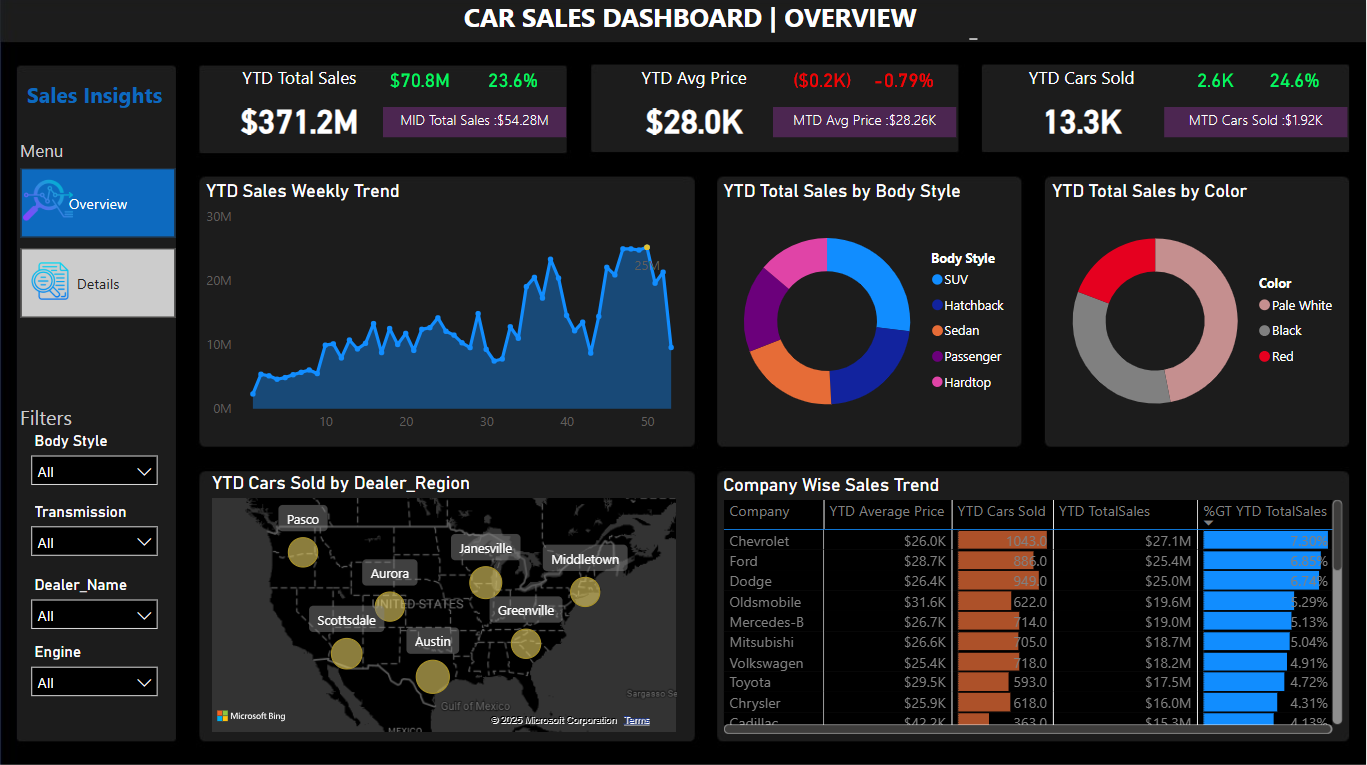

The dashboard page shown, as its layout file describes it:
{"tool":"powerbi","page":{"name":"Overview","canvas":[1280,720],"ordinal":0},"visuals":[{"type":"card","title":"YTD Total Sales","fields":{"Values":["car_data.YTD TotalSales"]},"box":[188.3,61.7,185,80],"z":0},{"type":"card","title":"YTD Total Sales","fields":{"Values":["car_data.Sales Difference"]},"box":[345,61.7,98.3,26.7],"z":1000},{"type":"card","title":"YTD Total Sales","fields":{"Values":["car_data.YOY Sales Growth"]},"box":[431.7,61.7,100,26.7],"z":2000},{"type":"card","fields":{"Values":["car_data.MID KPI"]},"box":[360,101.7,171.7,28.3],"z":3000},{"type":"card","title":"YTD Avg Price","fields":{"Values":["car_data.YTD Average Price"]},"box":[558.3,61.7,185,80],"z":4000},{"type":"card","title":"YTD Total Sales","fields":{"Values":["car_data.Average Difference between YTD and PTYD"]},"box":[721.7,61.7,98.3,26.7],"z":5000},{"type":"card","title":"YTD Total Sales","fields":{"Values":["car_data.YOY Average Price Growth"]},"box":[796.7,61.7,100,26.7],"z":6000},{"type":"card","fields":{"Values":["car_data.MID Avg Price KPI"]},"box":[725,101.7,171.7,28.3],"z":7000},{"type":"card","title":"YTD Cars Sold","fields":{"Values":["car_data.YTD Cars Sold"]},"box":[921.7,61.7,185,80],"z":8000},{"type":"card","title":"YTD Total Sales","fields":{"Values":["car_data.Difference between YTD Cars Sold and PTYD Cars Sold"]},"box":[1090,61.7,98.3,26.7],"z":9000},{"type":"card","title":"YTD Total Sales","fields":{"Values":["car_data.YOY Growth Cars Sold"]},"box":[1165,61.7,98.3,26.7],"z":10000},{"type":"card","fields":{"Values":["car_data.MID Cars Sold"]},"box":[1091.7,101.7,171.7,28.3],"z":11000},{"type":"areaChart","title":"  YTD Sales Weekly Trend","fields":{"Category":["Calendar.WeekNum"],"Y":["Sum(car_data.Price ($))","car_data.Max Point"]},"box":[188.3,170,463.3,245],"z":12000},{"type":"donutChart","title":"YTD Total Sales by Body Style","fields":{"Y":["car_data.YTD TotalSales"],"Category":["car_data.Body Style"]},"box":[673.3,170,281.7,245],"z":13000},{"type":"donutChart","title":"YTD Total Sales by Color","fields":{"Y":["car_data.YTD TotalSales"],"Category":["car_data.Color"]},"box":[981.7,170,281.7,245],"z":14000},{"type":"map","fields":{"Size":["car_data.YTD Cars Sold"],"Category":["car_data.Dealer_Region"]},"box":[195,443.3,445,248.3],"z":15000},{"type":"tableEx","title":"Company Wise Sales Trend","fields":{"Values":["car_data.Company","car_data.YTD Average Price","car_data.YTD Cars Sold","car_data.YTD TotalSales1","car_data.YTD TotalSales"]},"box":[673.3,445,590,248.3],"z":16000},{"type":"textbox","title":"CAR SALES DASHBOARD | OVERVIEW","box":[373.3,0,548.3,43.3],"z":16001},{"type":"slicer","fields":{"Values":["car_data.Body Style"]},"box":[20,400,138.3,66.7],"z":16002},{"type":"slicer","fields":{"Values":["car_data.Engine"]},"box":[20,598.3,138.3,68.3],"z":16003},{"type":"slicer","fields":{"Values":["car_data.Transmission"]},"box":[20,466.7,138.3,68.3],"z":16004},{"type":"slicer","fields":{"Values":["car_data.Dealer_Name"]},"box":[20,535,138.3,68.3],"z":16005},{"type":"textbox","title":"Filters","box":[15,378.3,150,21.7],"z":16006},{"type":"textbox","title":"Sales Insights","box":[15,75,150,41.7],"z":16007},{"type":"textbox","title":"Menu","box":[15,130,150,28.3],"z":16008},{"type":"pageNavigator","box":[20,158.3,145,141.7],"z":16009},{"type":"image","box":[20,241.7,55,45],"z":16010},{"type":"image","box":[16.7,158.3,58.3,60],"z":16011}]}

Visuals, with their boxes in screenshot pixels (x1, y1, x2, y2), scaled from the page's 1280x720 canvas onto the 1367x765 screenshot:
"YTD Total Sales" card: x1=201, y1=66, x2=399, y2=151
"YTD Total Sales" card: x1=368, y1=66, x2=473, y2=94
"YTD Total Sales" card: x1=461, y1=66, x2=568, y2=94
card - car_data.MID KPI: x1=384, y1=108, x2=568, y2=138
"YTD Avg Price" card: x1=596, y1=66, x2=794, y2=151
"YTD Total Sales" card: x1=771, y1=66, x2=876, y2=94
"YTD Total Sales" card: x1=851, y1=66, x2=958, y2=94
card - car_data.MID Avg Price KPI: x1=774, y1=108, x2=958, y2=138
"YTD Cars Sold" card: x1=984, y1=66, x2=1182, y2=151
"YTD Total Sales" card: x1=1164, y1=66, x2=1269, y2=94
"YTD Total Sales" card: x1=1244, y1=66, x2=1349, y2=94
card - car_data.MID Cars Sold: x1=1166, y1=108, x2=1349, y2=138
"  YTD Sales Weekly Trend" areaChart: x1=201, y1=181, x2=696, y2=441
"YTD Total Sales by Body Style" donutChart: x1=719, y1=181, x2=1020, y2=441
"YTD Total Sales by Color" donutChart: x1=1048, y1=181, x2=1349, y2=441
map - car_data.YTD Cars Sold x car_data.Dealer_Region: x1=208, y1=471, x2=684, y2=735
"Company Wise Sales Trend" tableEx: x1=719, y1=473, x2=1349, y2=737
"CAR SALES DASHBOARD | OVERVIEW" textbox: x1=399, y1=0, x2=984, y2=46
slicer - car_data.Body Style: x1=21, y1=425, x2=169, y2=496
slicer - car_data.Engine: x1=21, y1=636, x2=169, y2=708
slicer - car_data.Transmission: x1=21, y1=496, x2=169, y2=568
slicer - car_data.Dealer_Name: x1=21, y1=568, x2=169, y2=641
"Filters" textbox: x1=16, y1=402, x2=176, y2=425
"Sales Insights" textbox: x1=16, y1=80, x2=176, y2=124
"Menu" textbox: x1=16, y1=138, x2=176, y2=168
pageNavigator: x1=21, y1=168, x2=176, y2=319
image: x1=21, y1=257, x2=80, y2=305
image: x1=18, y1=168, x2=80, y2=232
